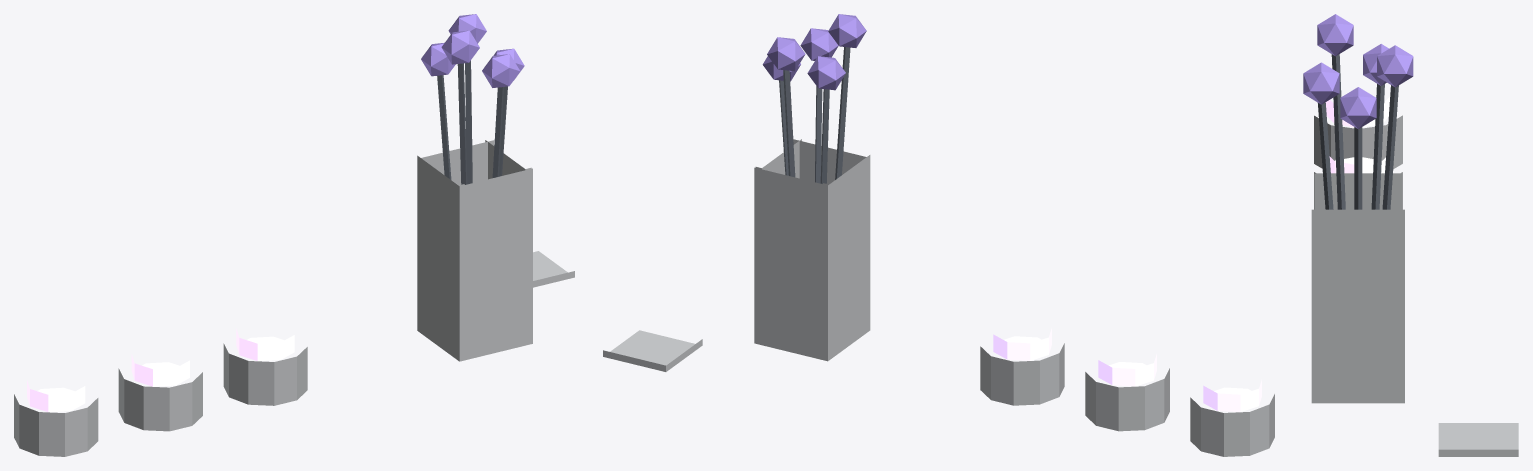
The model's file is ext_offering_set_05.glb.
3 views of the same model, side by side, from view 1: azimuth 30°, elevation 25°; view 2: azimuth 150°, elevation 25°; view 3: azimuth 270°, elevation 25° (orthographic). The views are drawn at different scales.
Parts seen in each view (by area): view 1: Vases, Cups, Glow, Dried_Petals, Stems, RFID_Tag; view 2: Vases, Cups, Dried_Petals, Glow, Stems, RFID_Tag; view 3: Vases, Dried_Petals, Stems, RFID_Tag, Cups, Glow.
Part boxes in pixels (left/top/right/bottom): Vases: left=417, top=140, right=532, bottom=361; Cups: left=14, top=343, right=307, bottom=456; Glow: left=27, top=328, right=294, bottom=412; Dried_Petals: left=421, top=14, right=524, bottom=87; Stems: left=437, top=60, right=507, bottom=184; RFID_Tag: left=533, top=251, right=574, bottom=287; Vases: left=754, top=139, right=870, bottom=361; Cups: left=980, top=343, right=1274, bottom=456; Dried_Petals: left=762, top=14, right=866, bottom=90; Glow: left=993, top=328, right=1261, bottom=412; Stems: left=779, top=47, right=850, bottom=183; RFID_Tag: left=603, top=330, right=702, bottom=371; Vases: left=1311, top=173, right=1404, bottom=403; Dried_Petals: left=1303, top=14, right=1413, bottom=129; Stems: left=1318, top=54, right=1398, bottom=209; RFID_Tag: left=1438, top=423, right=1518, bottom=456; Cups: left=1314, top=115, right=1402, bottom=209; Glow: left=1325, top=96, right=1390, bottom=173.
Size of the model in its own units: 0.565 by 0.2903 by 0.1612.
